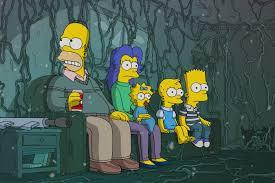Bart: (179, 63, 224, 155)
Homer: (46, 18, 118, 175)
Lisa: (155, 75, 186, 135)
Maggie: (128, 77, 159, 133)
Marge: (108, 39, 148, 167)
